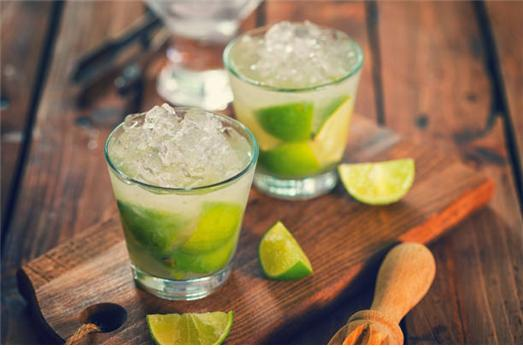alcohol: (100, 105, 258, 297), (220, 22, 360, 199)
